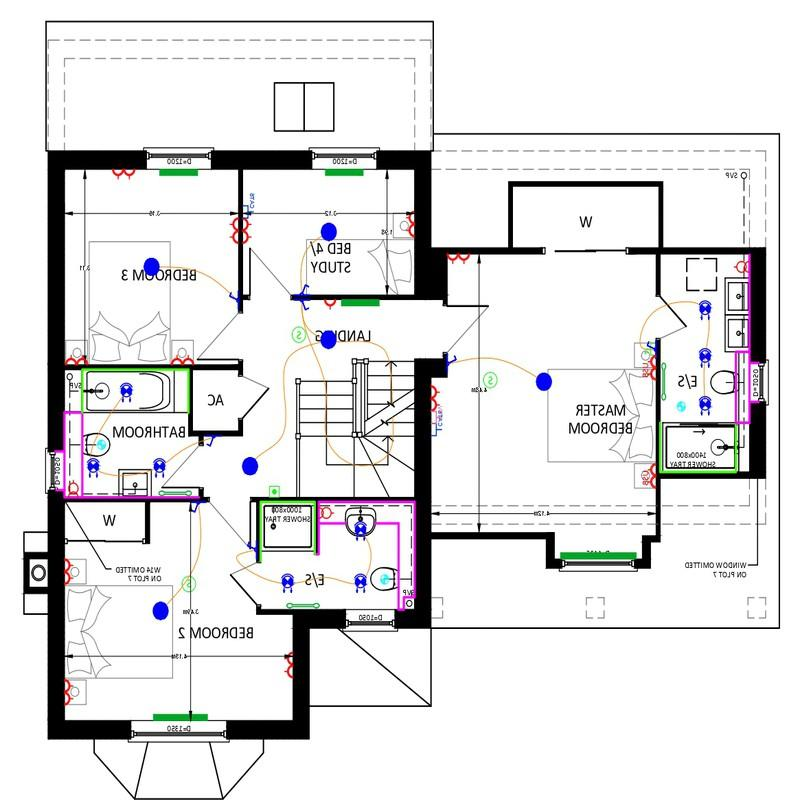Cat 6 Data Socket: (240, 200, 264, 218), (430, 422, 446, 439)
Ceiling Mounted Continuous Extract Fan With Boost Mode Activated By Light Switch: (92, 432, 115, 453), (379, 571, 398, 588), (672, 398, 688, 415)
Co-Ax TV Socket: (427, 409, 446, 424)
Double Socket: (62, 553, 81, 590), (219, 216, 239, 250), (61, 671, 81, 705), (106, 165, 142, 181), (400, 204, 416, 240), (238, 217, 257, 246), (63, 348, 94, 365), (428, 383, 446, 412), (283, 642, 294, 689), (446, 251, 476, 267), (165, 352, 196, 365)
Full Height Tiling: (79, 365, 194, 416), (657, 419, 742, 476), (255, 496, 318, 564)
Light Switch: (446, 347, 463, 373), (295, 277, 314, 297), (202, 434, 221, 452), (293, 298, 317, 312), (186, 502, 207, 516), (228, 285, 240, 309), (243, 536, 256, 558), (646, 337, 657, 356)
Low Energy Downlighter: (270, 570, 303, 600), (691, 294, 718, 330), (78, 455, 107, 484), (345, 563, 367, 600), (146, 453, 171, 481), (696, 387, 717, 418), (352, 515, 373, 545), (112, 377, 137, 402), (691, 343, 714, 369)
Low Energy Pendant Light: (137, 250, 175, 284), (233, 449, 266, 482), (312, 213, 347, 242), (528, 371, 558, 396), (316, 326, 339, 353), (150, 597, 172, 622)
Mains Wired Smoke Detector: (285, 320, 311, 348), (479, 366, 504, 393), (178, 570, 203, 595)
Programmable Room Thermostat: (265, 483, 289, 497)
Radiator: (558, 550, 640, 562), (154, 164, 202, 183), (337, 297, 387, 315), (144, 712, 216, 723), (320, 166, 368, 180)
Shaver Socket: (314, 502, 344, 519), (64, 472, 83, 498), (729, 259, 751, 277)
Single Socket: (319, 296, 341, 312)
Telephone Socket: (640, 340, 661, 355)
USB Double Socket: (641, 456, 657, 493), (638, 356, 658, 381)
